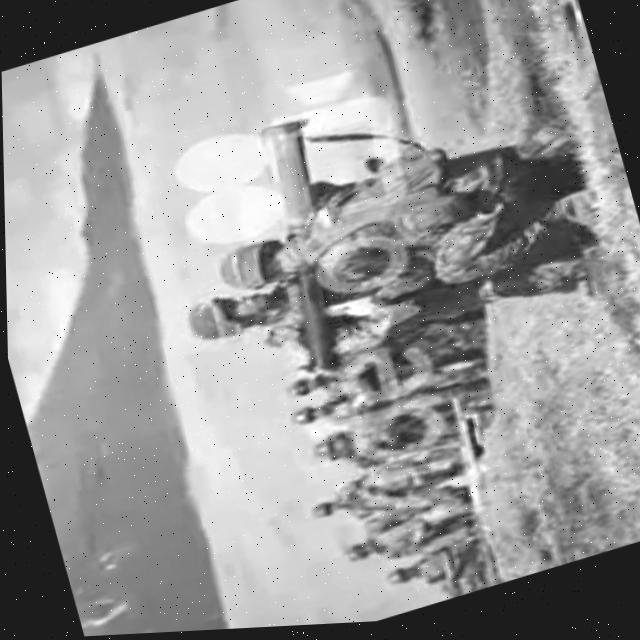rocket: (240, 117, 369, 384)
